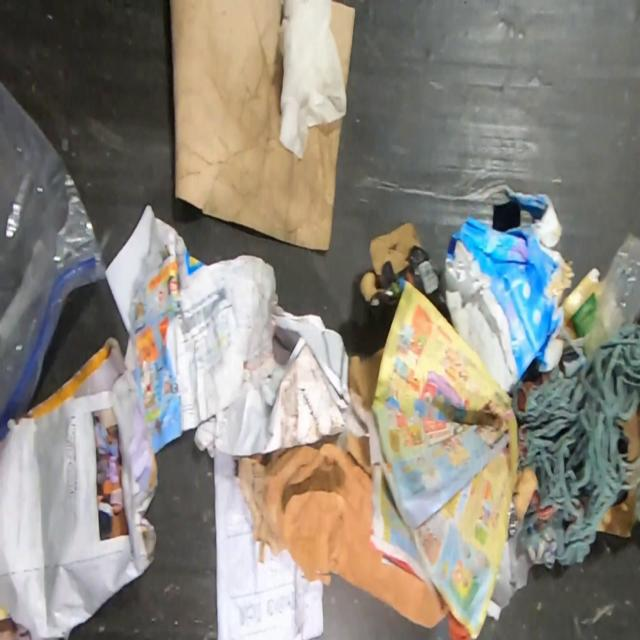cardboard: (160, 0, 344, 253), (233, 430, 450, 628), (441, 189, 574, 394), (368, 220, 424, 275), (596, 481, 640, 538), (329, 0, 356, 91), (348, 346, 383, 409), (614, 409, 640, 462)
rigid_plastic: (350, 244, 454, 353), (582, 230, 640, 363)
soft_plastic: (0, 75, 107, 449)
